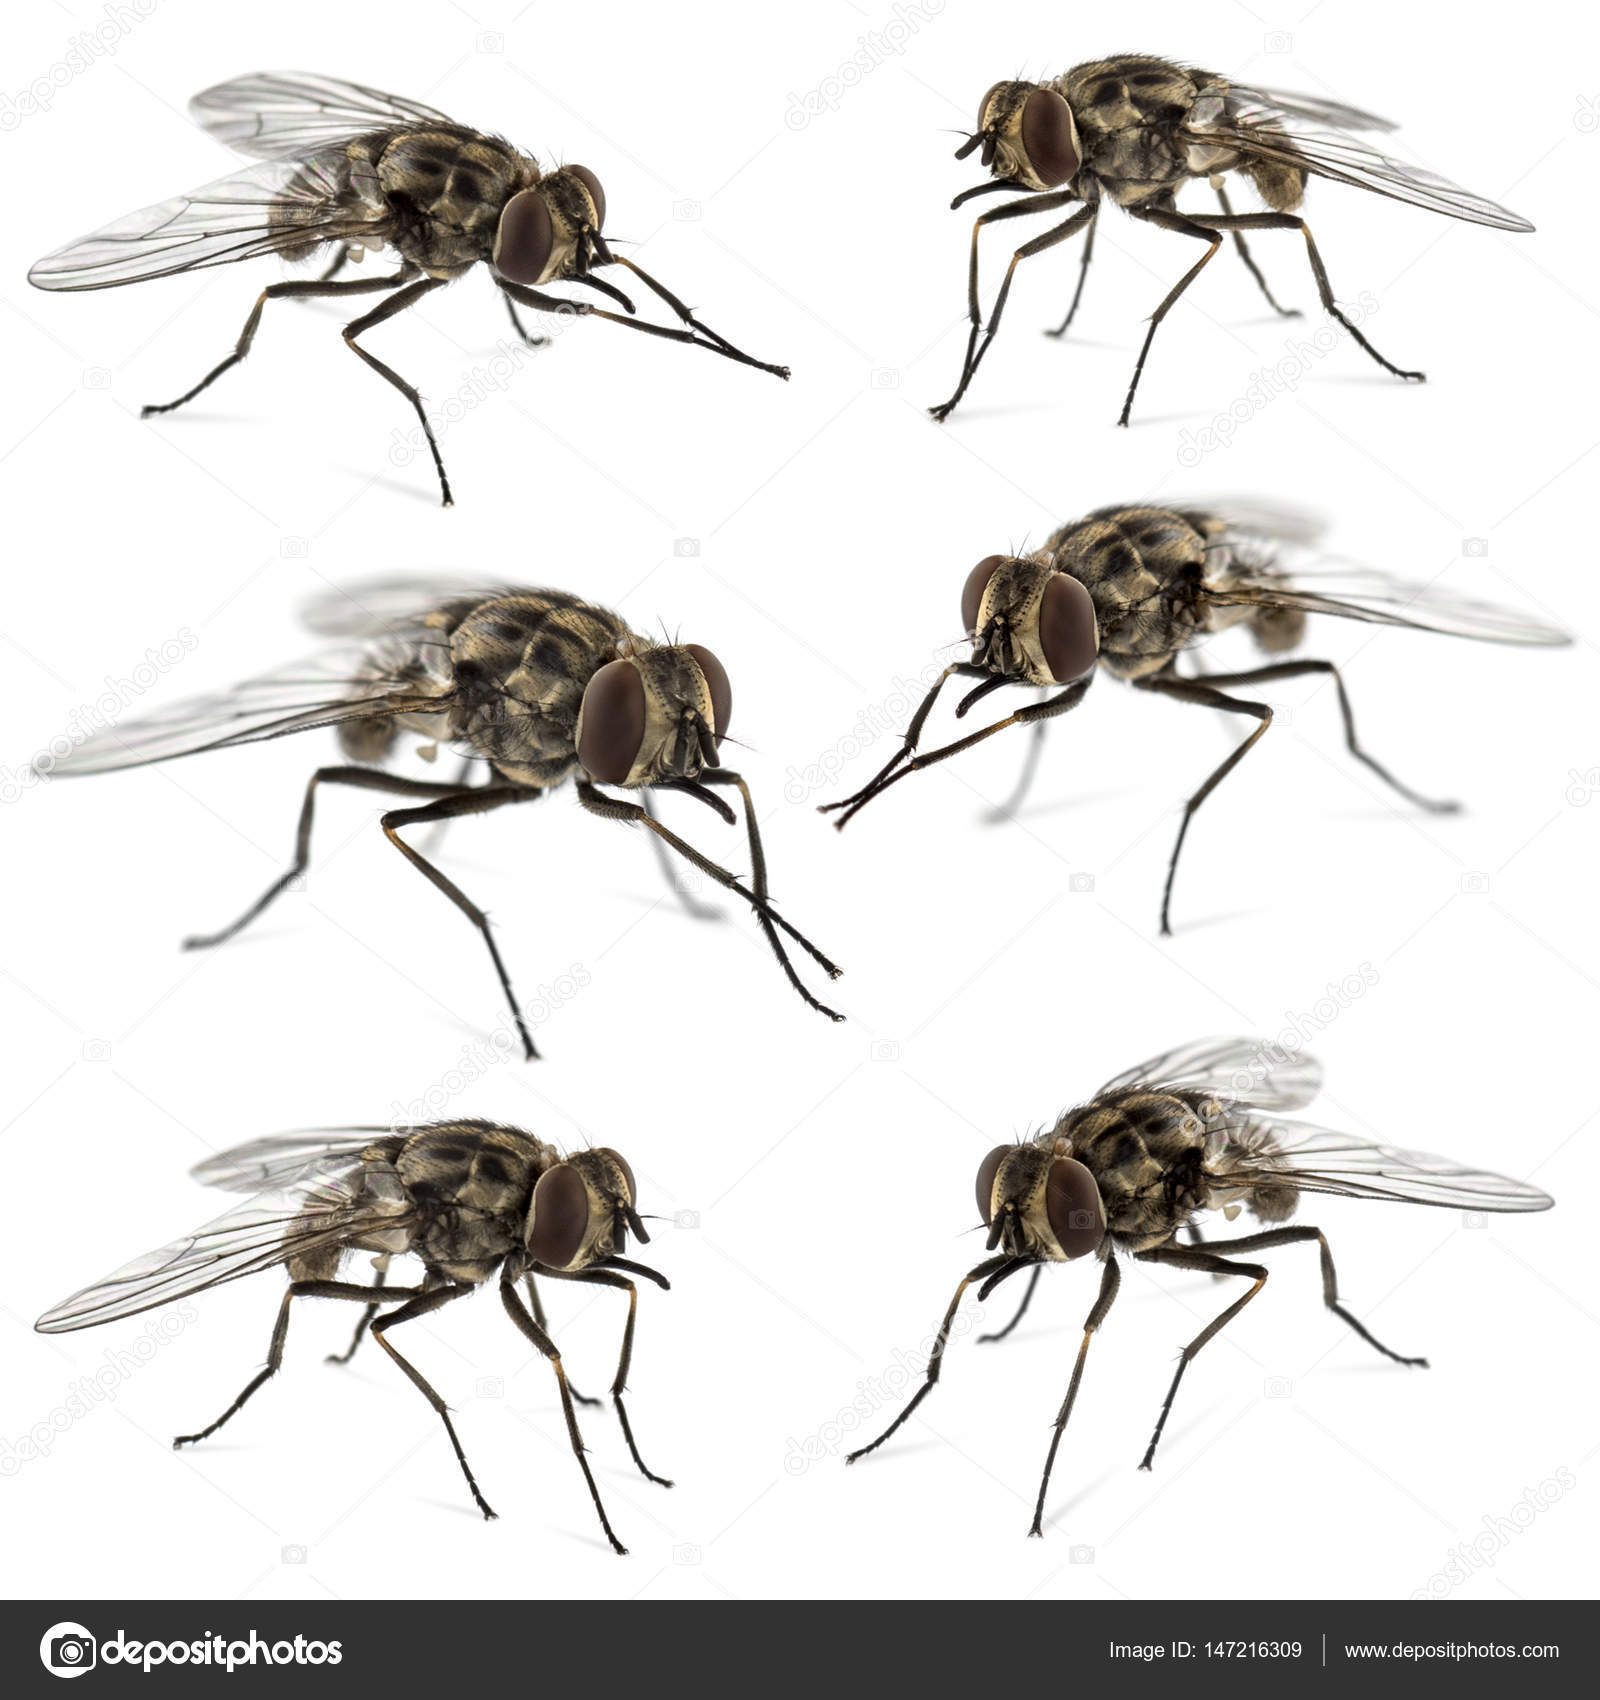house fly: (21, 543, 850, 1063), (851, 1028, 1567, 1572), (20, 62, 792, 523), (818, 484, 1574, 948), (38, 1115, 690, 1586), (925, 35, 1546, 460)
